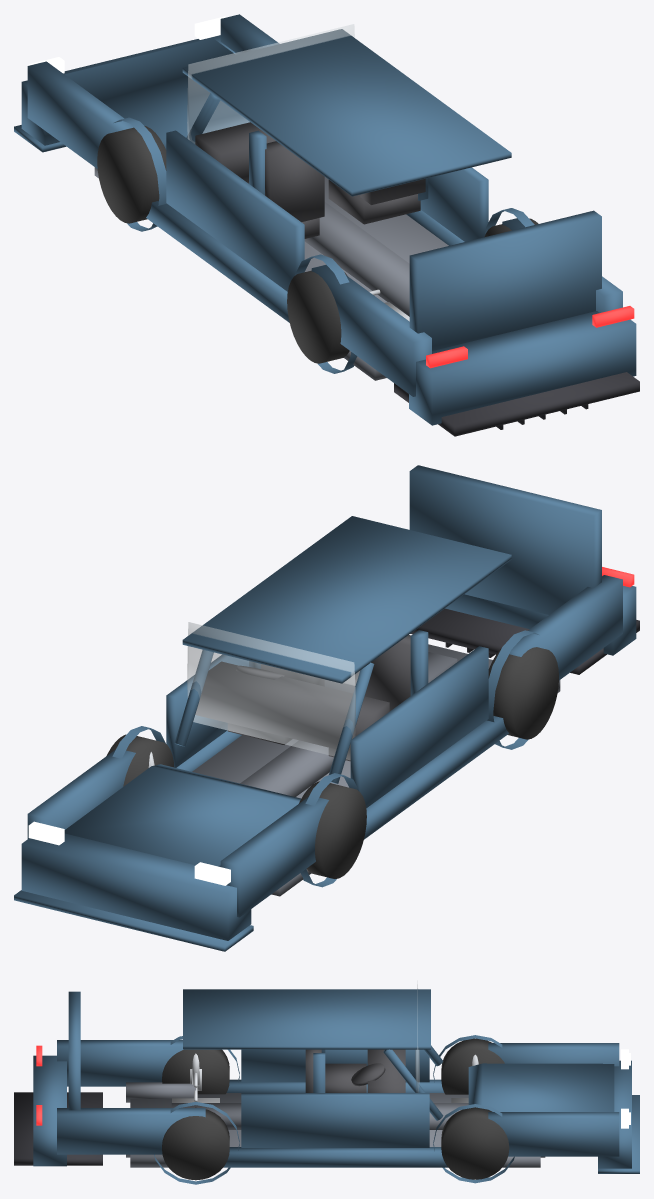
File: shooting_brake_complete.glb
The picture shows the model from 3 angles, top to bottom: view 1: azimuth 30°, elevation 25°; view 2: azimuth 150°, elevation 25°; view 3: azimuth 270°, elevation 25°; orthographic projection. The views are drawn at different scales.
Parts seen in each view (by area): view 1: BODY_Cabin, BODY_RearClip, BODY_FrontClip, INTERIOR_Cockpit, CHASSIS_Main, WHEEL_FR, AERO_Diffuser, WHEEL_RR, GLASS_Windshield, LIGHT_Taillamp_L, LIGHT_Taillamp_R; view 2: BODY_Cabin, BODY_FrontClip, BODY_RearClip, GLASS_Windshield, INTERIOR_Cockpit, CHASSIS_Main, WHEEL_RR, WHEEL_FR, AERO_Diffuser, WHEEL_FL; view 3: BODY_Cabin, BODY_FrontClip, BODY_RearClip, CHASSIS_Main, WHEEL_FL, WHEEL_RL, INTERIOR_Cockpit, AERO_Diffuser, WHEEL_RR, WHEEL_FR, SUSP_RR.
Part boxes in pixels (x1,y1,x2,y2): BODY_Cabin: (146,29,511,322); BODY_RearClip: (295,208,636,425); BODY_FrontClip: (14,14,279,231); INTERIOR_Cockpit: (195,122,425,238); CHASSIS_Main: (94,167,448,380); WHEEL_FR: (97,126,166,223); AERO_Diffuser: (394,372,639,436); WHEEL_RR: (287,270,349,363); GLASS_Windshield: (187,24,354,143); LIGHT_Taillamp_L: (592,306,634,327); LIGHT_Taillamp_R: (426,346,467,368); BODY_Cabin: (166,516,511,839); BODY_FrontClip: (14,726,358,951); BODY_RearClip: (409,465,636,749); GLASS_Windshield: (187,622,355,759); INTERIOR_Cockpit: (195,635,410,761); CHASSIS_Main: (192,644,560,896); WHEEL_RR: (488,647,558,739); WHEEL_FR: (299,781,366,878); AERO_Diffuser: (410,608,639,674); WHEEL_FL: (106,734,174,786); BODY_Cabin: (183,989,447,1167); BODY_FrontClip: (433,1035,639,1183); BODY_RearClip: (33,991,239,1184); CHASSIS_Main: (126,1082,545,1167); WHEEL_FL: (441,1107,509,1179); WHEEL_RL: (162,1107,229,1180); INTERIOR_Cockpit: (305,1049,405,1092); AERO_Diffuser: (14,1092,102,1165); WHEEL_RR: (162,1049,229,1094); WHEEL_FR: (441,1038,504,1094); SUSP_RR: (190,1053,201,1101).
Size of the model in its own units: 1.91 by 1.54 by 6.27.
